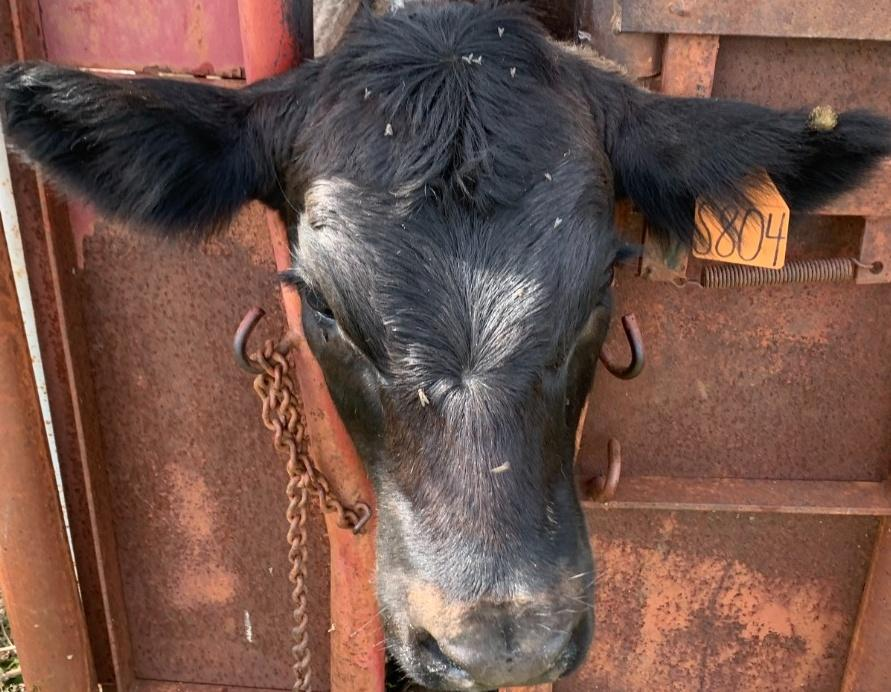muzzles: (373, 560, 600, 690)
